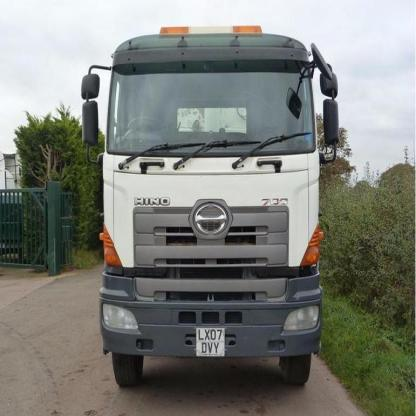dump_truck: (75, 28, 342, 387)
